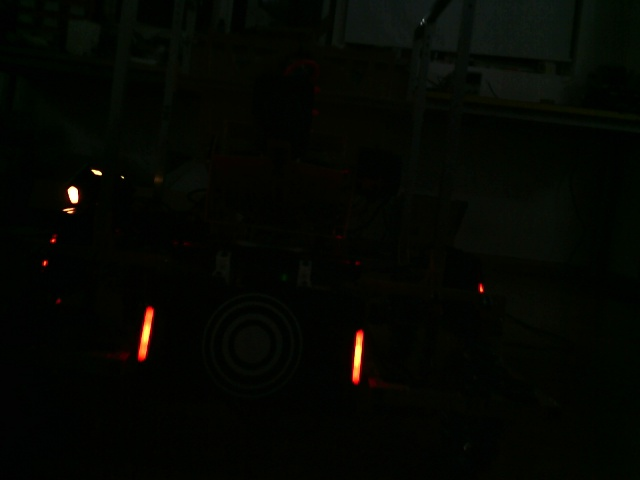lamp: (135, 305, 158, 363), (346, 325, 367, 388)
